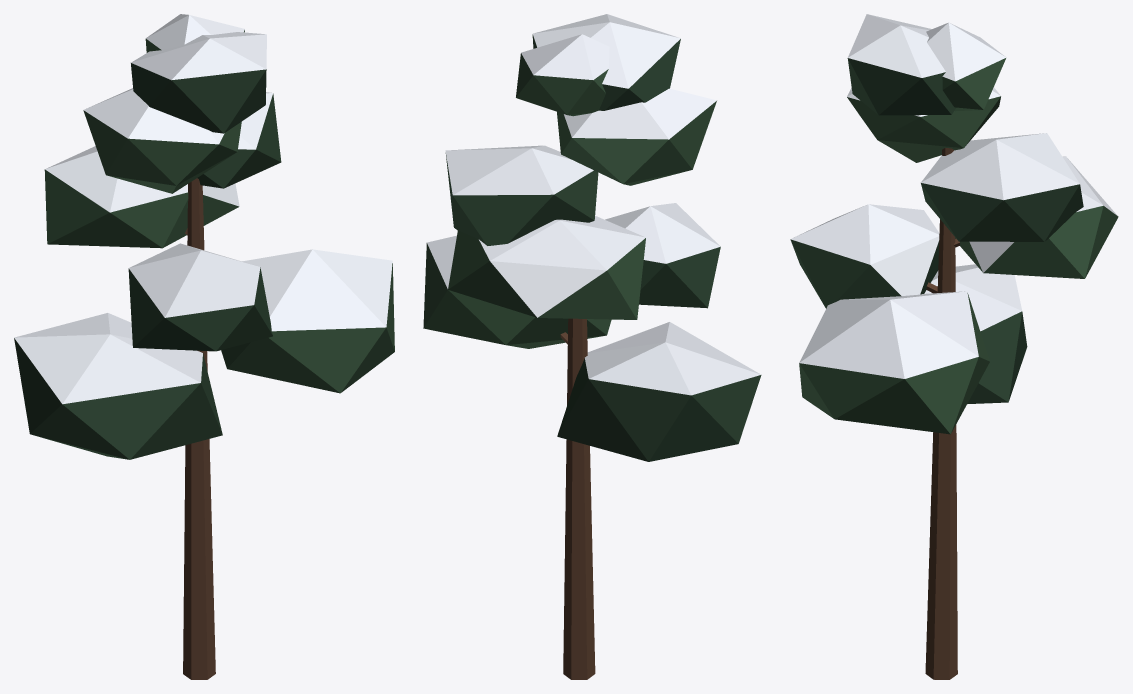
File: pine-2.glb
3 views of the same model, side by side, from view 1: azimuth 30°, elevation 25°; view 2: azimuth 150°, elevation 25°; view 3: azimuth 270°, elevation 25° (orthographic). The views are drawn at different scales.
Visible parts, largest first — view 1: pine-2; view 2: pine-2; view 3: pine-2.
Boxes of the visible parts, x1,y1,x2,y2 form: pine-2: (14, 14, 394, 679); pine-2: (423, 14, 761, 679); pine-2: (790, 14, 1118, 679).
Size of the model in its own units: 6.23 by 11.5 by 5.28.
